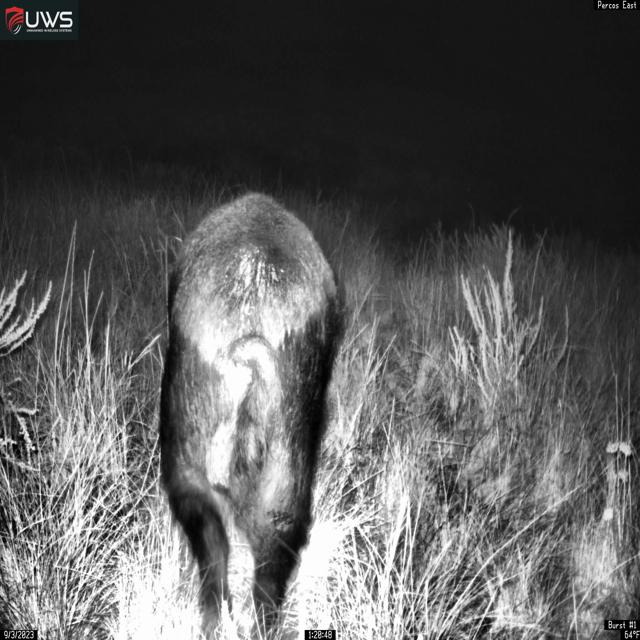pig: (158, 190, 347, 639)
